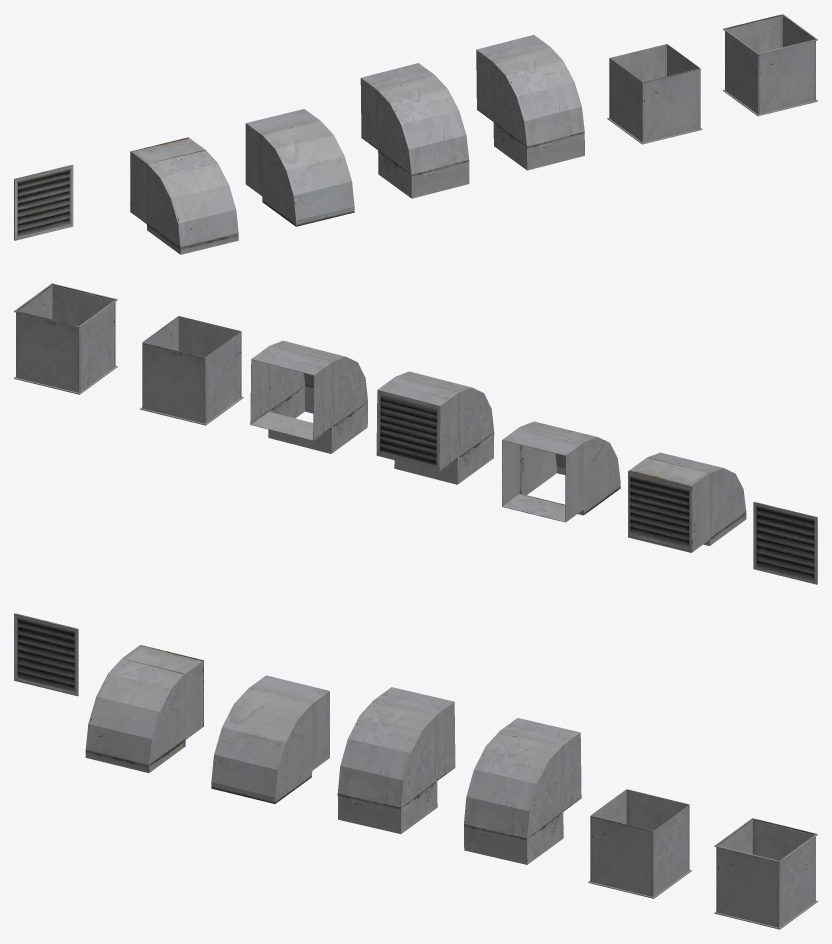
Rendered from trubi.fbx.
3 views of the same model, one above another, from view 1: azimuth 30°, elevation 25°; view 2: azimuth 150°, elevation 25°; view 3: azimuth 330°, elevation 25° (orthographic). The views are drawn at different scales.
Visible parts, largest first — view 1: large_end, large_end_closed, small_end, small_end_closed, straight_double, straing_single, Plane.002; view 2: large_end_closed, large_end, small_end_closed, straight_double, straing_single, small_end, Plane.002; view 3: large_end_closed, large_end, small_end, small_end_closed, straight_double, straing_single, Plane.002.
Part boxes in pixels (box(x1,y1,x2,y2)): large_end: box(476, 35, 584, 170); large_end_closed: box(360, 63, 469, 198); small_end: box(245, 109, 354, 226); small_end_closed: box(130, 137, 238, 254); straight_double: box(723, 14, 817, 116); straing_single: box(607, 44, 702, 144); Plane.002: box(14, 164, 73, 240); large_end_closed: box(376, 371, 494, 484); large_end: box(250, 340, 367, 453); small_end_closed: box(628, 452, 746, 552); straight_double: box(14, 283, 117, 394); straing_single: box(140, 316, 243, 425); small_end: box(502, 421, 620, 522); Plane.002: box(753, 501, 817, 584); large_end_closed: box(337, 687, 455, 833); large_end: box(464, 718, 581, 864); small_end: box(211, 675, 329, 803); small_end_closed: box(85, 645, 203, 772); straight_double: box(714, 818, 817, 929); straing_single: box(588, 789, 691, 898); Plane.002: box(14, 613, 78, 696).
Bounding box in the file's own units: 1303 × 143 × 155.
